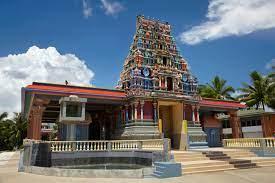Temple: (115, 12, 203, 131)
